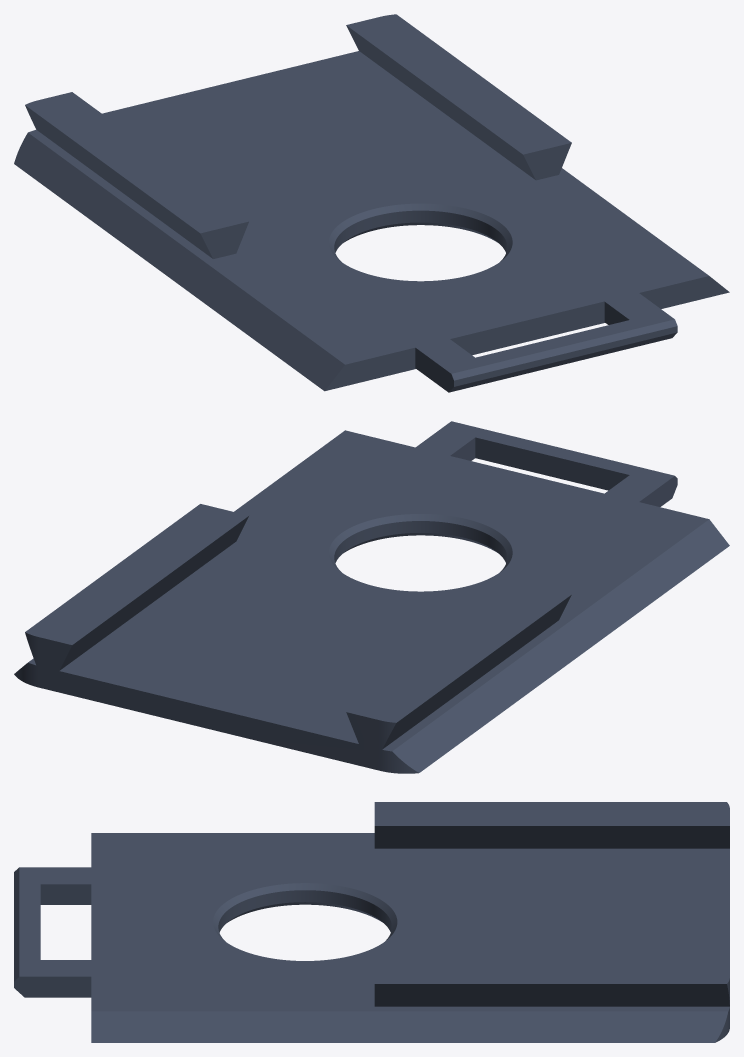
The model's file is lid.glb.
3 renders of one model, top to bottom at view 1: azimuth 30°, elevation 25°; view 2: azimuth 150°, elevation 25°; view 3: azimuth 270°, elevation 25°, orthographic.
Visible parts, largest first — view 1: Lid; view 2: Lid; view 3: Lid.
Boxes of the visible parts, x1,y1,x2,y2 form: Lid: (14, 14, 729, 392); Lid: (14, 421, 729, 773); Lid: (14, 802, 729, 1042).
Bounding box in the file's own units: 0.0176 × 0.00209 × 0.0268.
